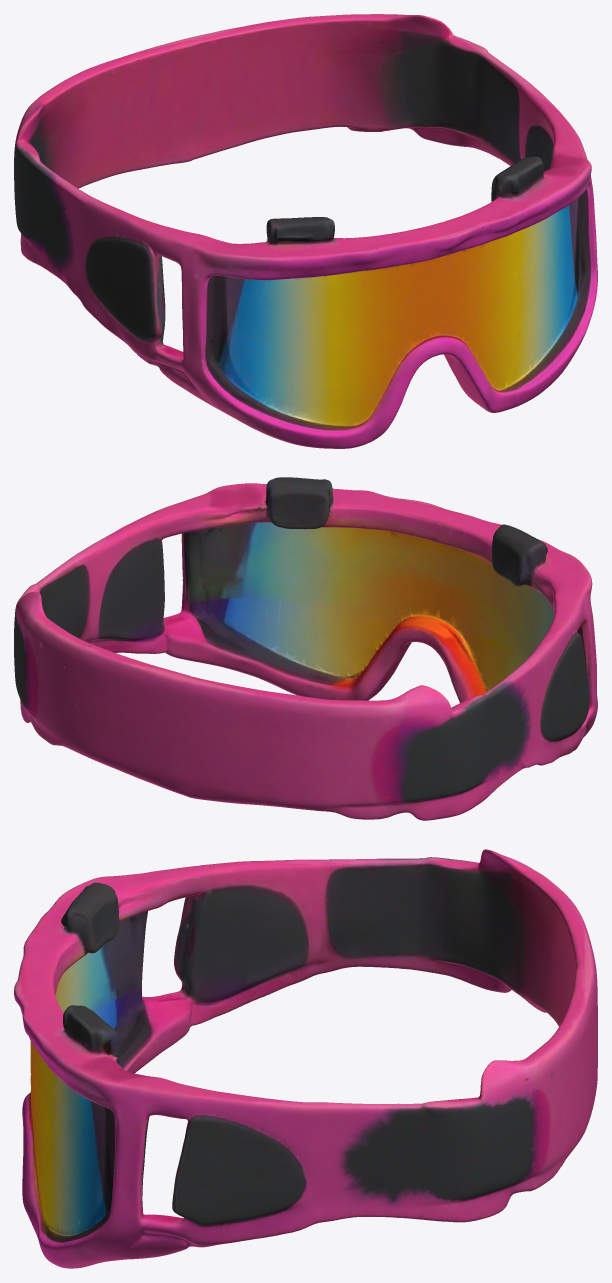
File: Pink_Neon_Ski_Goggles.glb
The picture shows the model from 3 angles, top to bottom: view 1: azimuth 30°, elevation 25°; view 2: azimuth 150°, elevation 25°; view 3: azimuth 270°, elevation 25°; orthographic projection. The views are drawn at different scales.
Bounding box in the file's own units: 2 × 0.9349 × 1.96.
1 material, 1 textured.
